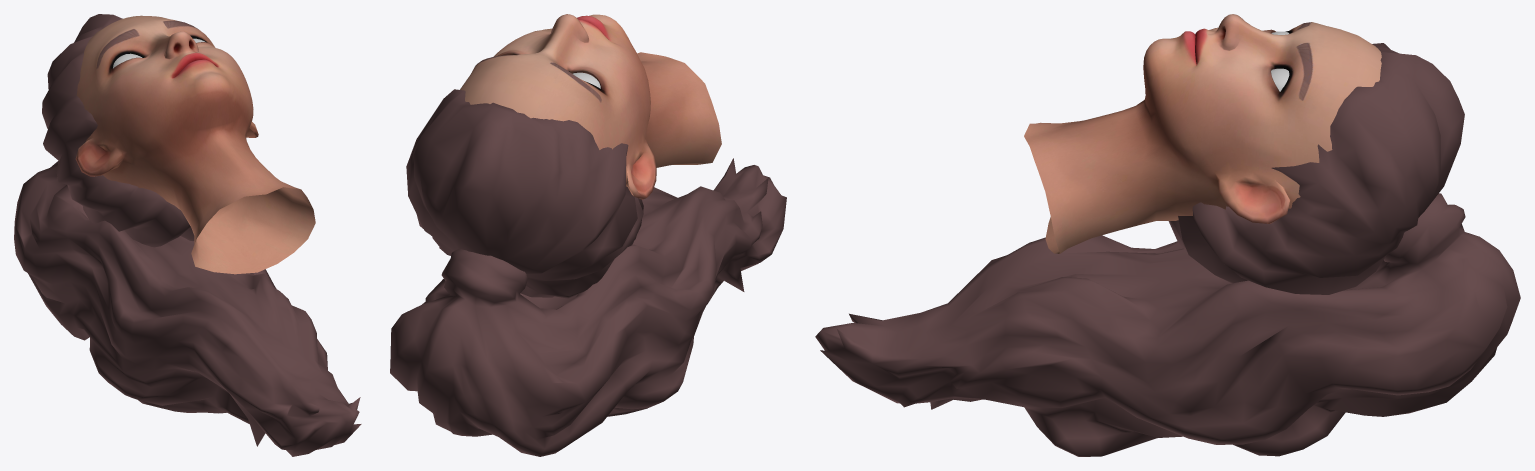
Rendered from Female_Afghanistan_Head.fbx.
3 renders of one model, left to right at view 1: azimuth 30°, elevation 25°; view 2: azimuth 150°, elevation 25°; view 3: azimuth 270°, elevation 25°, orthographic. The views are drawn at different scales.
Parts seen in each view (by area): view 1: Wolf3D_Hair, Wolf3D_Head; view 2: Wolf3D_Hair, Wolf3D_Head; view 3: Wolf3D_Hair, Wolf3D_Head.
Part boxes in pixels (<box>): Wolf3D_Hair: <box>14,14,361,456</box>; Wolf3D_Head: <box>75,15,315,274</box>; Wolf3D_Hair: <box>390,89,786,456</box>; Wolf3D_Head: <box>460,14,721,199</box>; Wolf3D_Hair: <box>815,43,1520,456</box>; Wolf3D_Head: <box>1024,14,1381,253</box>.
Bounding box in the file's own units: 19.24 × 36.84 × 55.25.
